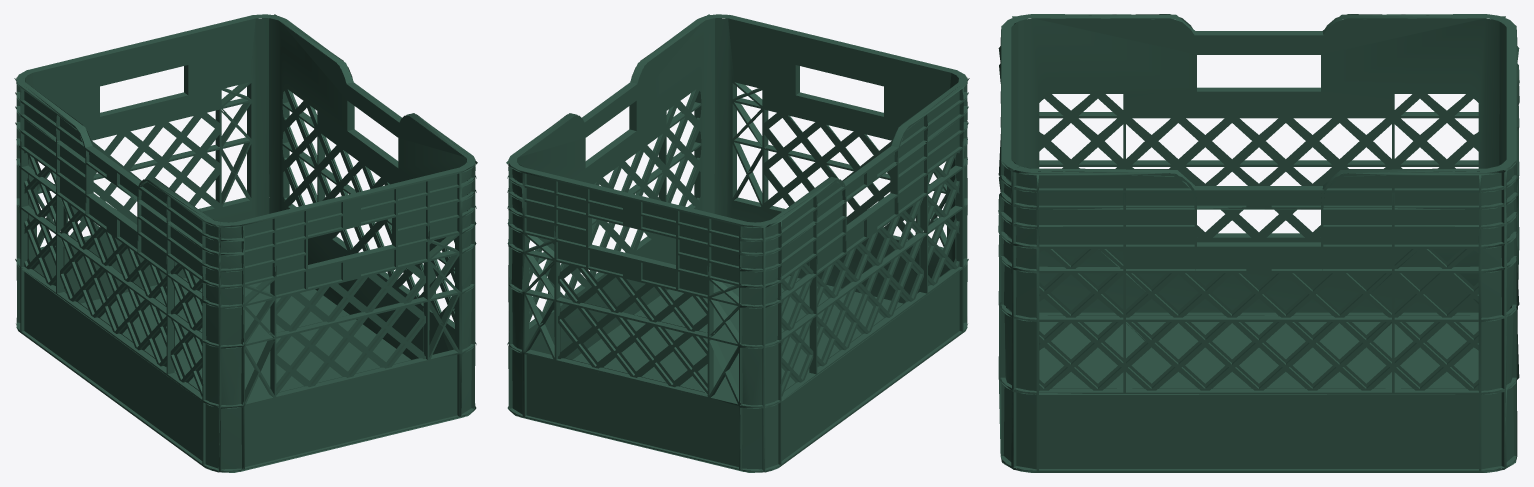
The model's file is plastic_crate_01.glb.
3 renders of one model, left to right at view 1: azimuth 30°, elevation 25°; view 2: azimuth 150°, elevation 25°; view 3: azimuth 270°, elevation 25°, orthographic. The views are drawn at different scales.
Visible parts, largest first — view 1: plastic_crate_01; view 2: plastic_crate_01; view 3: plastic_crate_01.
Part boxes in pixels (bbox=[...]): plastic_crate_01: bbox=[14, 14, 477, 472]; plastic_crate_01: bbox=[506, 14, 969, 472]; plastic_crate_01: bbox=[998, 14, 1519, 472].
Bounding box in the file's own units: 0.7342 × 0.6475 × 1.01.
